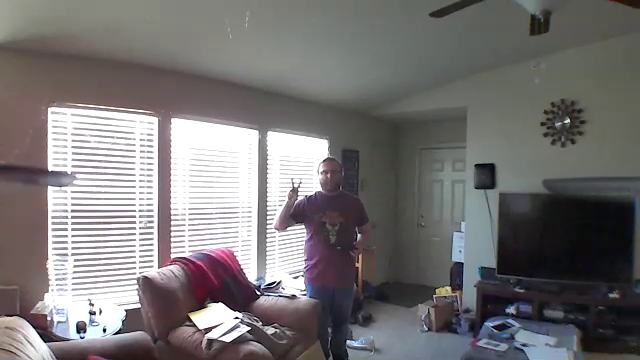peace: (285, 177, 308, 205)
